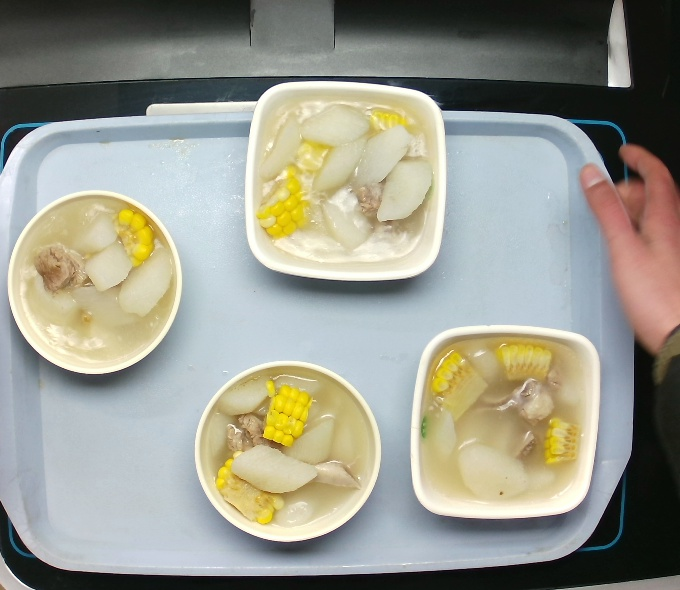wcq-ShanYaoYuMiTang: (8, 196, 193, 376), (191, 357, 376, 537), (410, 334, 595, 514), (257, 88, 442, 268)
